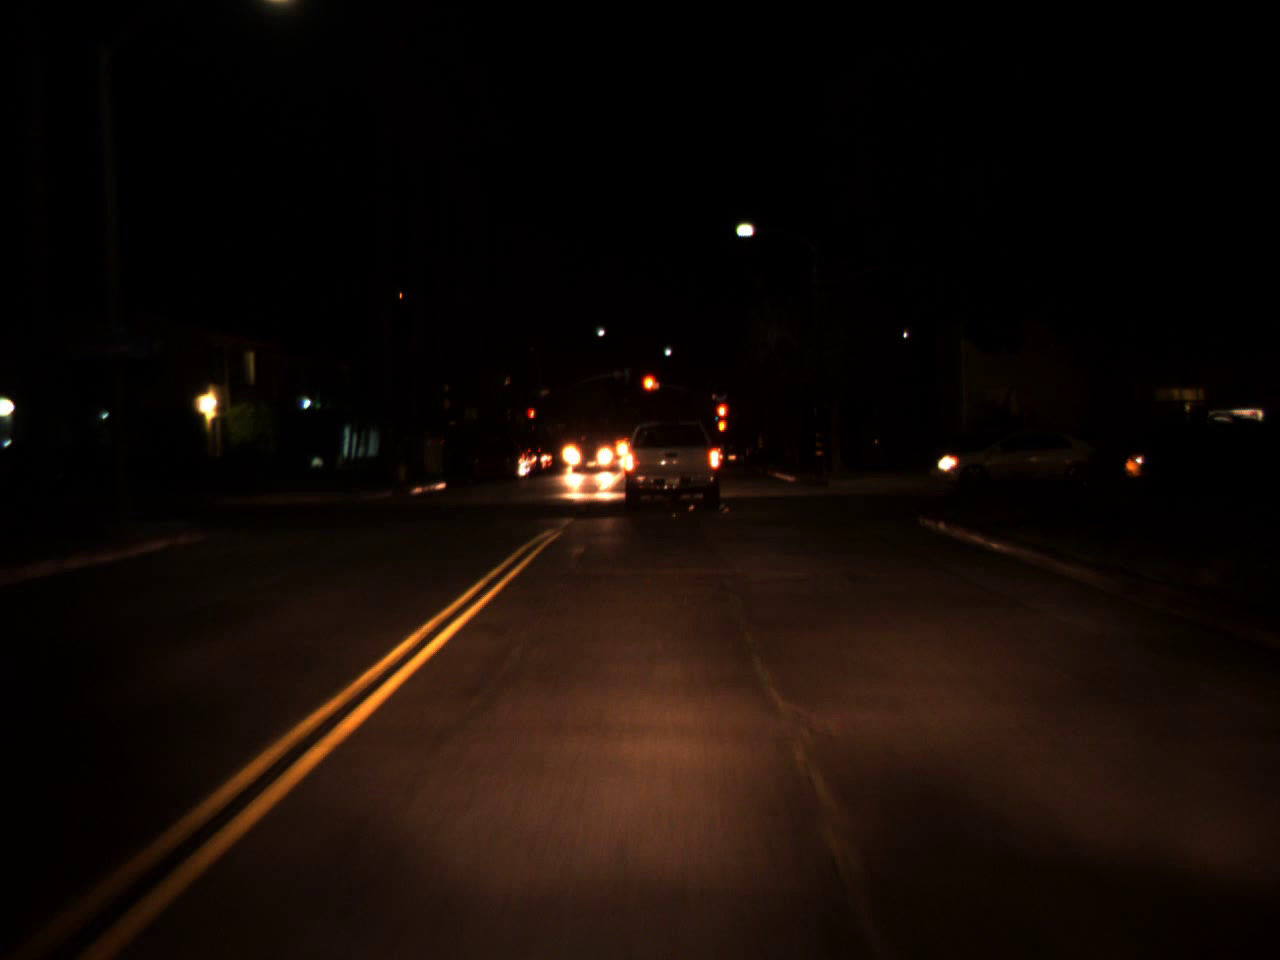stop: (640, 372, 661, 409), (527, 408, 534, 429), (717, 406, 724, 419)
